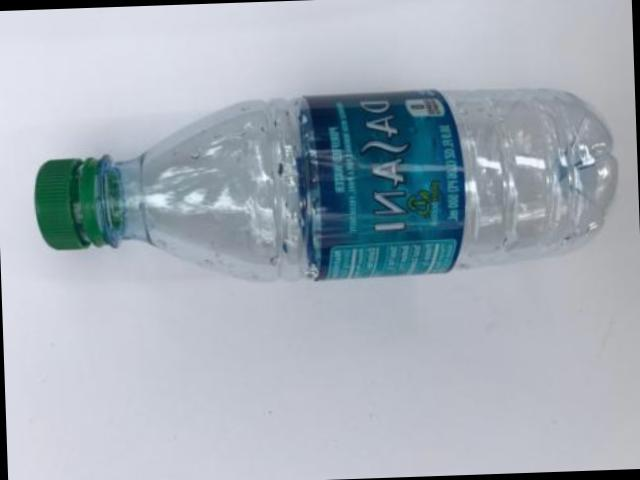plastic: (35, 92, 614, 282)
